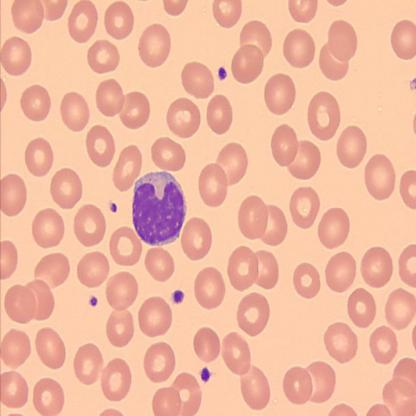Atypical lymphocyte: (132, 170, 186, 244)
